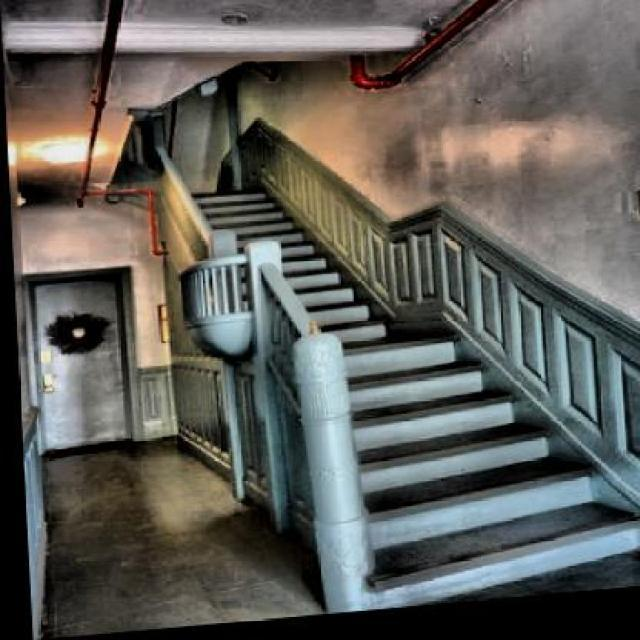stair: (154, 143, 638, 602)
